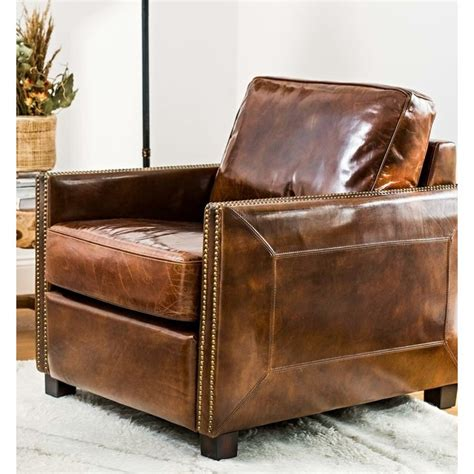cuero: (33, 74, 459, 436)
